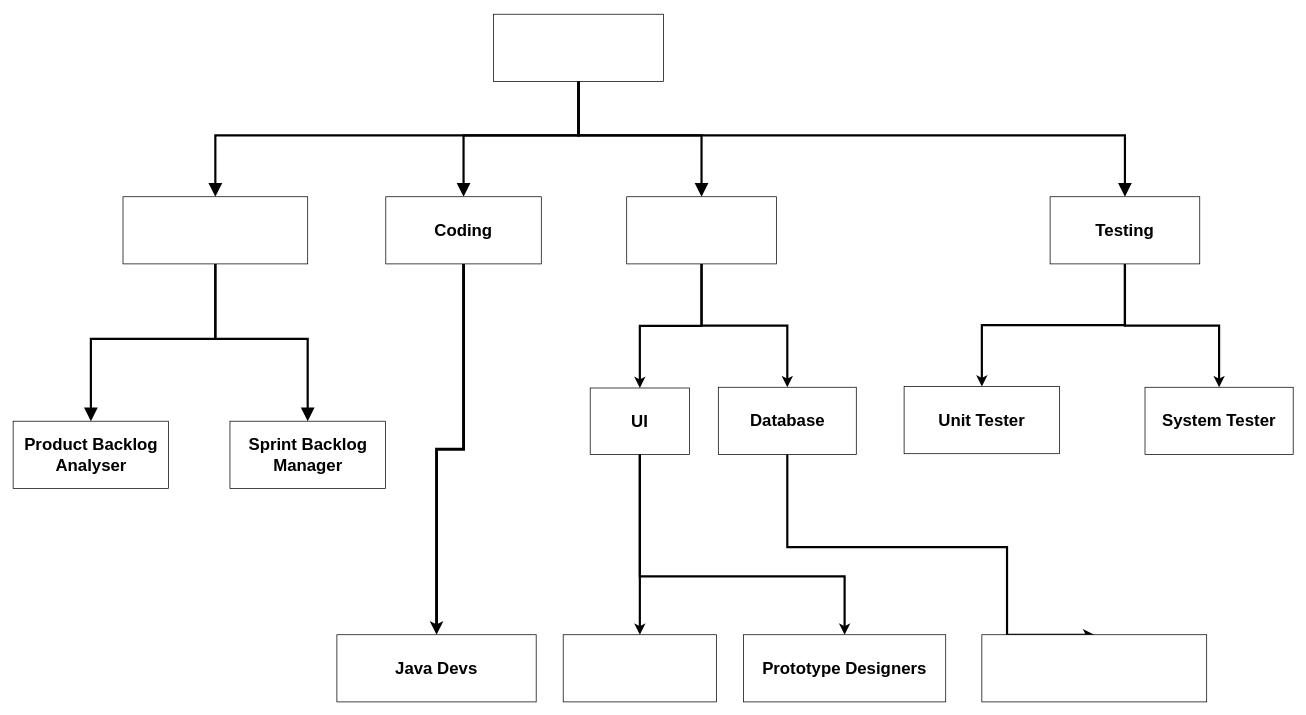
Image size: 1306x715. Some labels were removed from this diagram. The centre of each missing label's shape, as x and y in pixels:
"Cloud Firestore Designer" goes at (x=1094, y=668).
"Designing" goes at (x=701, y=230).
"Requirements Gathering" goes at (x=215, y=230).
"SECURIFY" goes at (x=578, y=47).
"XML Devs" goes at (x=639, y=668).
